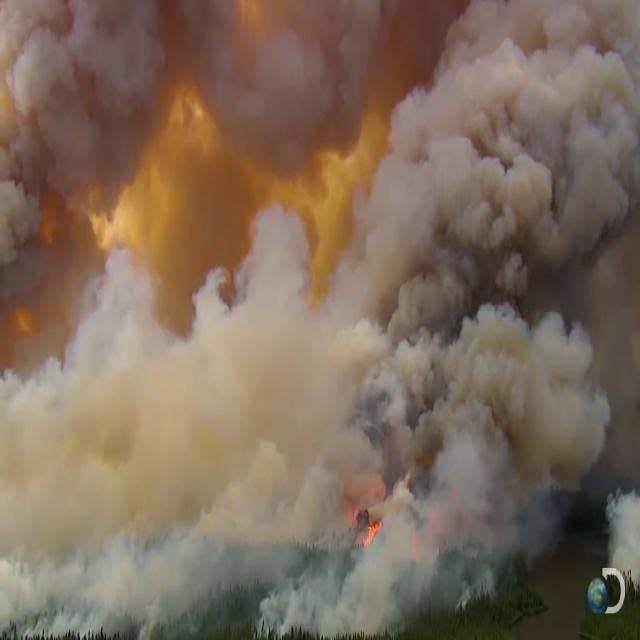Fire: (346, 493, 406, 568)
Smoke: (0, 16, 265, 576), (218, 65, 616, 410)
